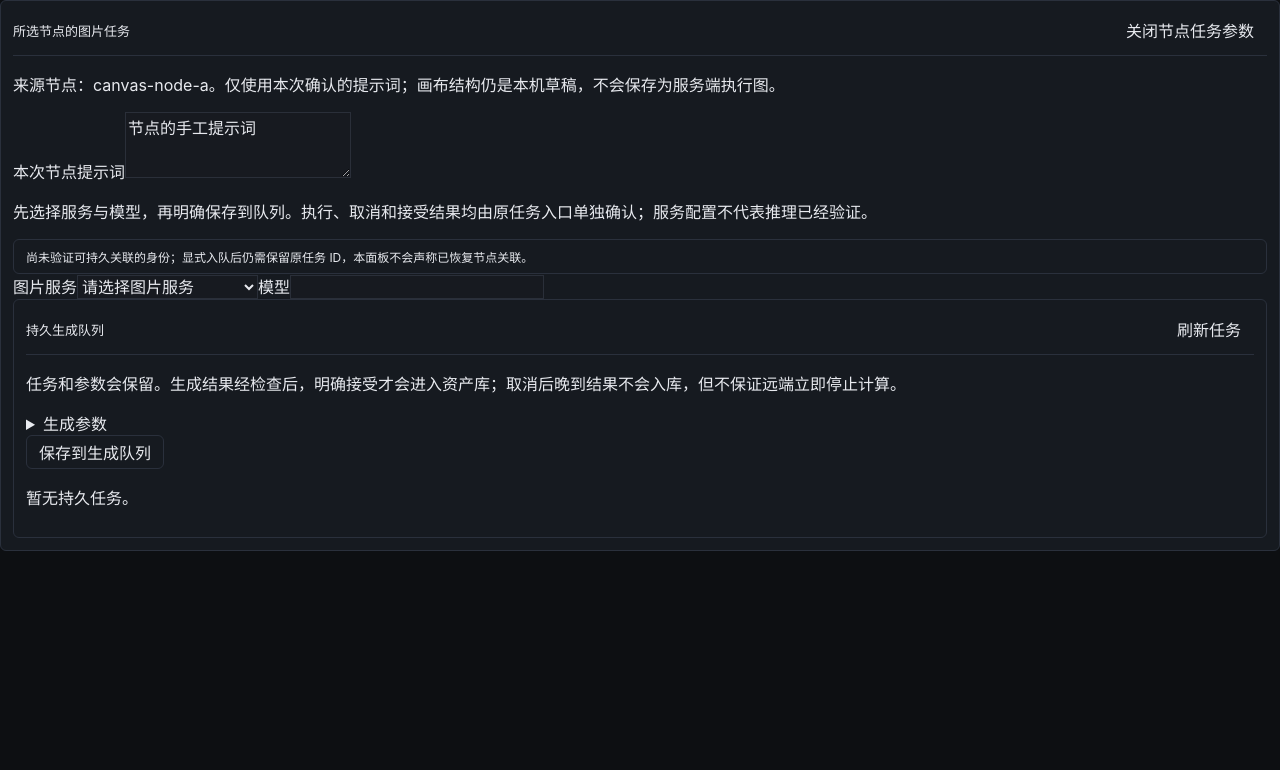
Scenario: CanvasImageQueue › requires consent for a provider whose local flag is false and invalidates it after a model edit
The image size is (1280, 770).
Select "Fixture cloud service" in the dropdown named "画布任务图片服务" at point(168, 287), box [77, 275, 258, 299]
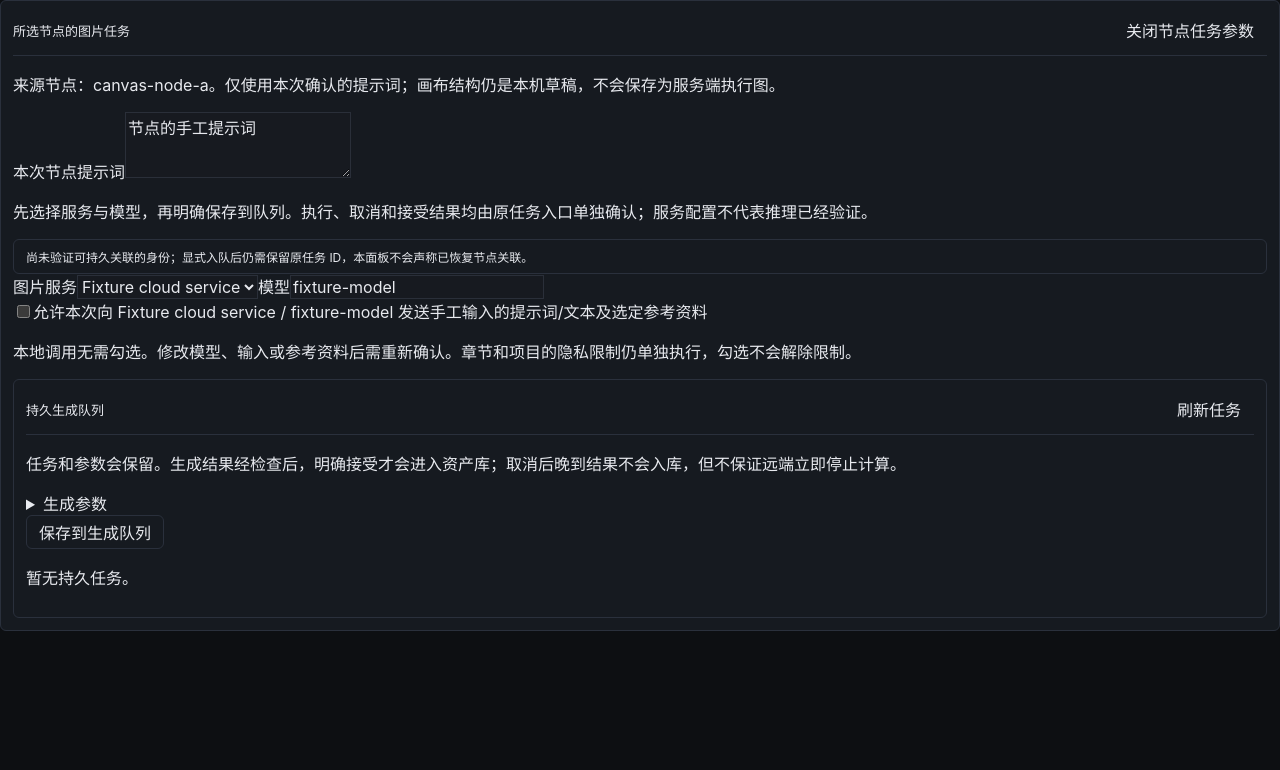
Expected: the button "保存到生成队列" is disabled, [26, 515, 164, 549]
Expected: the checkbox labelled "允许本次向" is not checked
Click the checkbox labelled "允许本次向".
click(24, 312)  # box [17, 305, 30, 318]
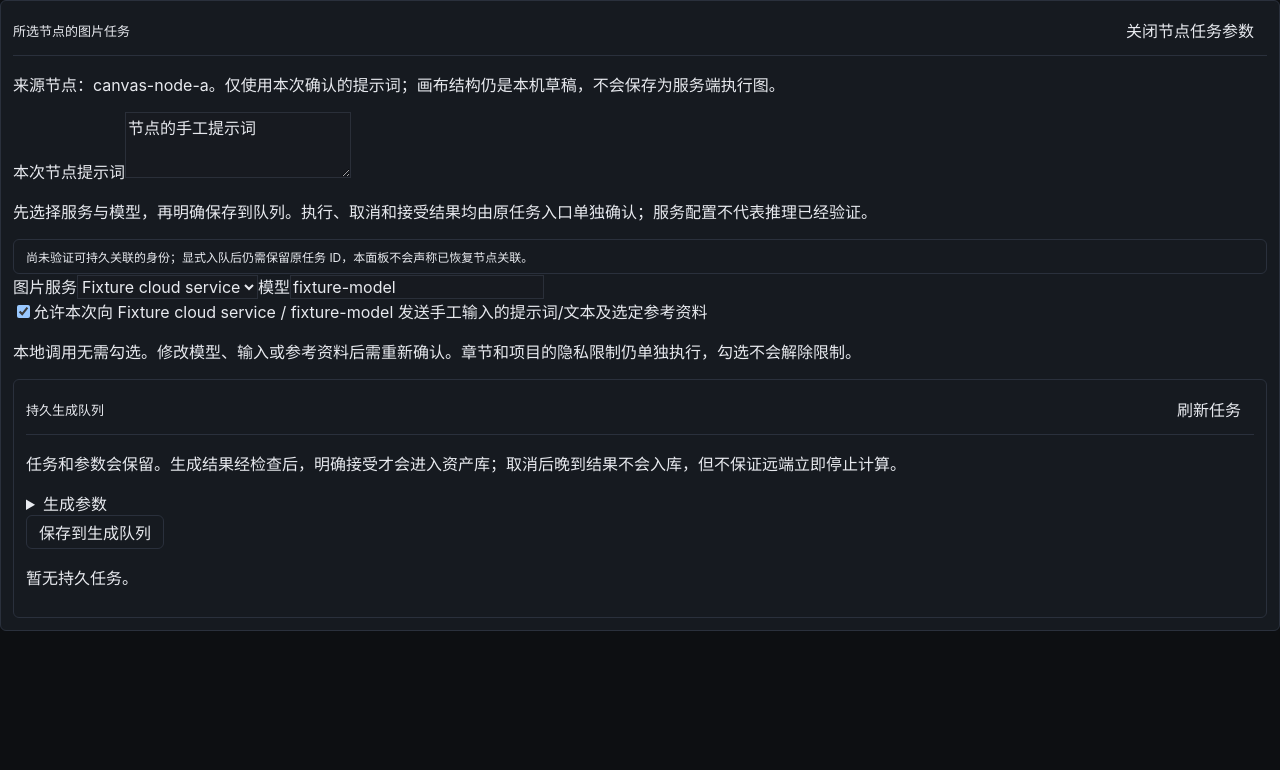
Expected: the button "保存到生成队列" is enabled, [26, 515, 164, 549]
Replace the text in the field named "画布任务模型" with "another-fixture-model" at point(417, 287), box [290, 275, 544, 299]
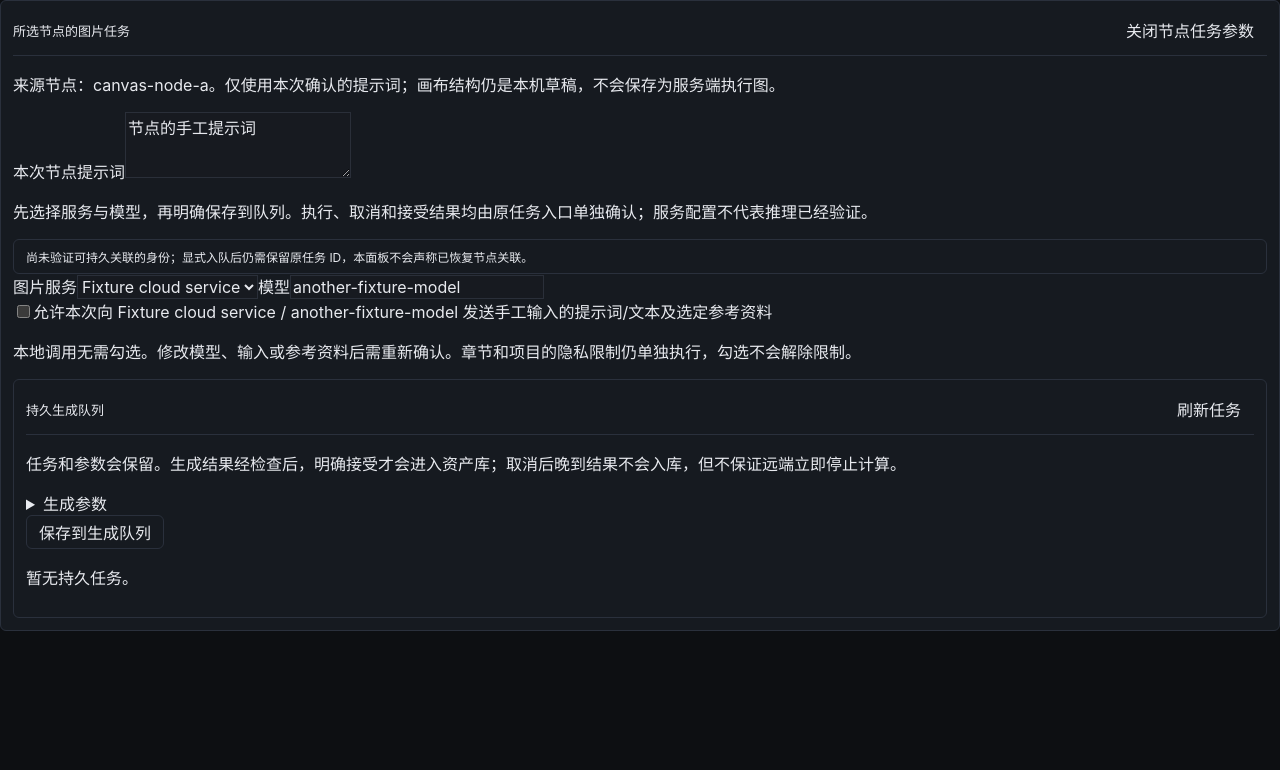
Expected: the button "保存到生成队列" is disabled, [26, 515, 164, 549]
Expected: the checkbox labelled "允许本次向" is not checked
Click the checkbox labelled "允许本次向".
click(24, 312)  # box [17, 305, 30, 318]
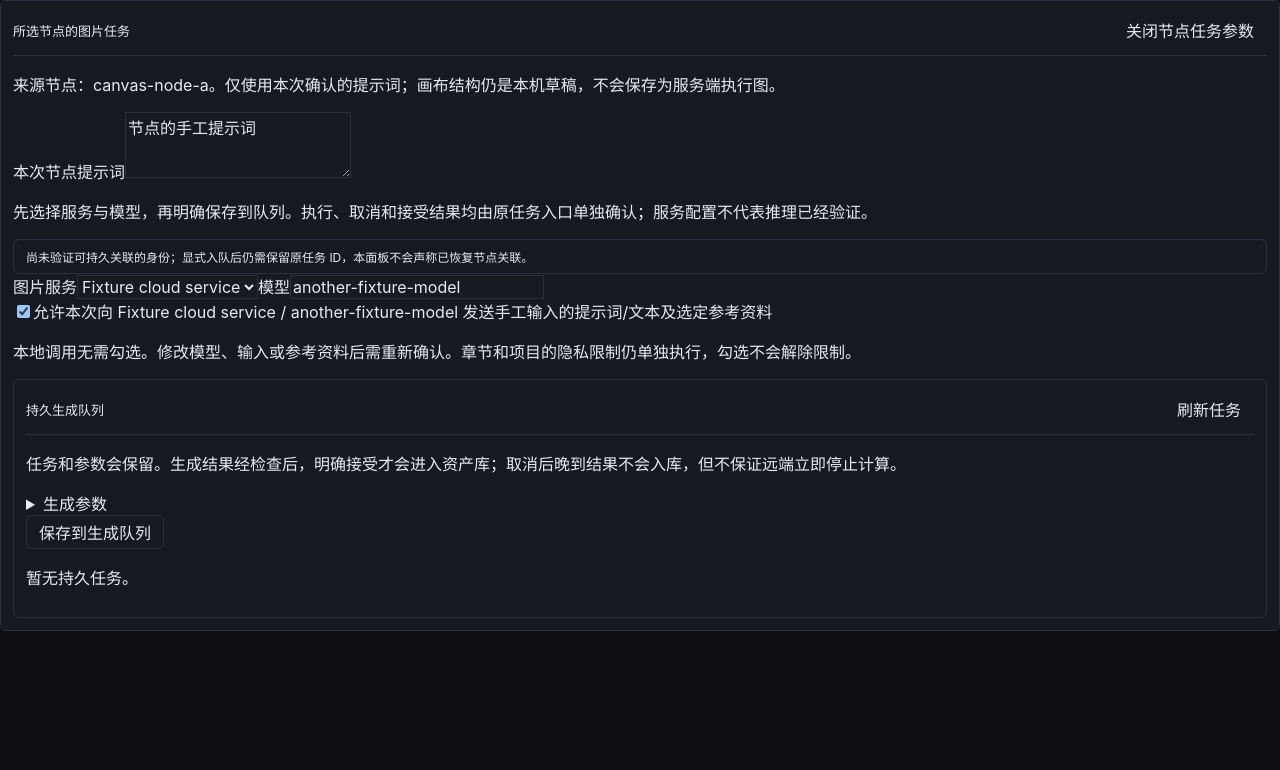
Click the button "保存到生成队列".
click(95, 532)  # box [26, 515, 164, 549]
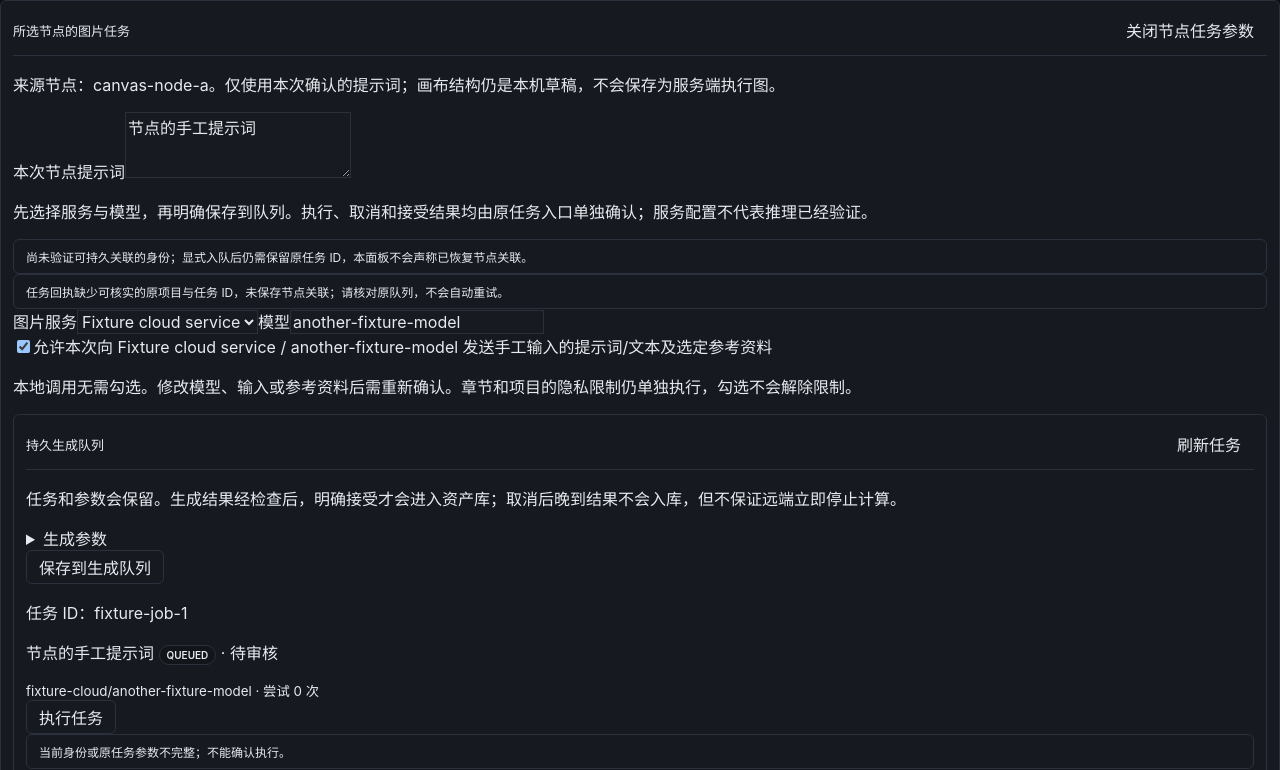
Expected: the text "任务 ID：fixture-job-1" is shown, [26, 603, 188, 623]
